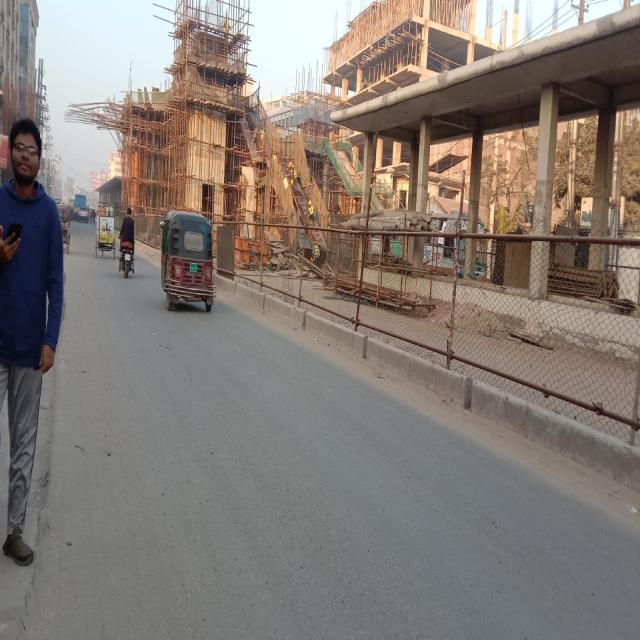cng: (156, 196, 210, 322)
